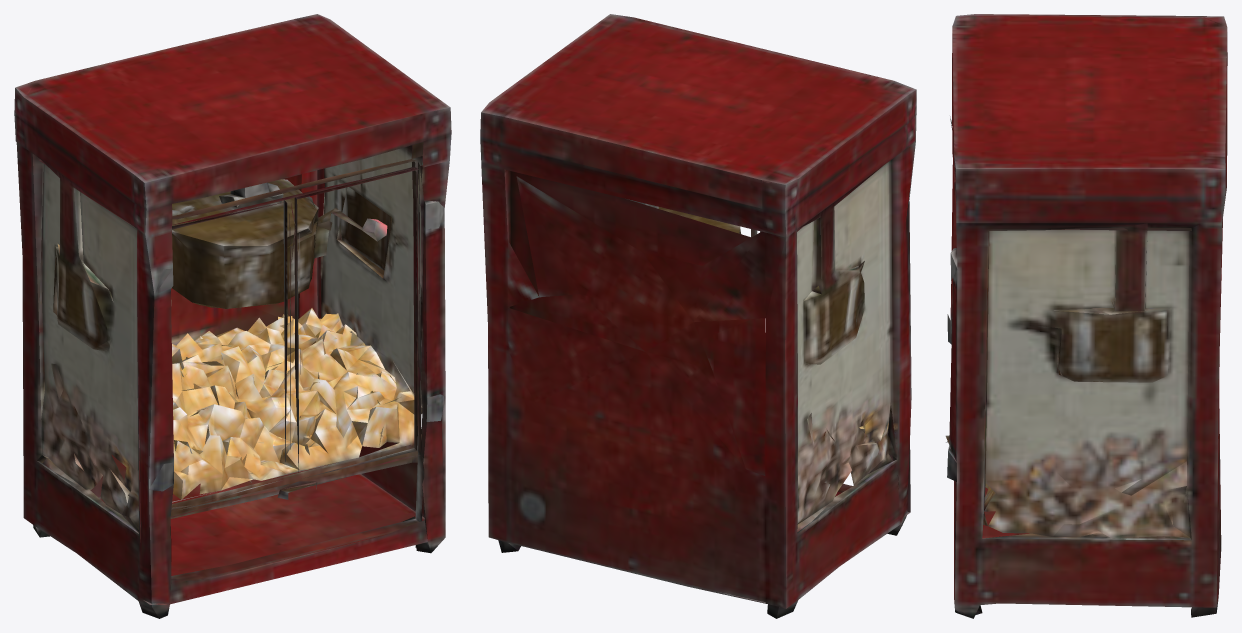
The model's file is p7-popcorn-machine.glb.
3 views of the same model, side by side, from view 1: azimuth 30°, elevation 25°; view 2: azimuth 150°, elevation 25°; view 3: azimuth 270°, elevation 25° (orthographic). The views are drawn at different scales.
Visible parts, largest first — view 1: p7-popcorn-machine; view 2: p7-popcorn-machine; view 3: p7-popcorn-machine.
Part boxes in pixels (x1,y1,x2,y2): p7-popcorn-machine: (14, 14, 451, 618); p7-popcorn-machine: (480, 14, 916, 618); p7-popcorn-machine: (945, 14, 1227, 618).
Bounding box in the file's own units: 0.55 × 0.75 × 0.4208.
1 material, 1 textured.
